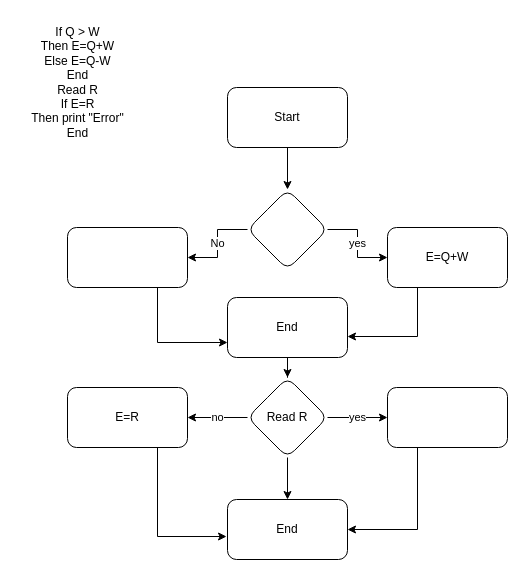
Some shapes in this 525 by 577 pixel diagram are drawn without their labels. The shapes that lost their labels are listed below. From the top down, each one's centre as x and y in pixels, then its label:
At pixel 287 229: "If Q > W".
At pixel 127 257: "E=Q-W".
At pixel 447 417: "Print Error".
